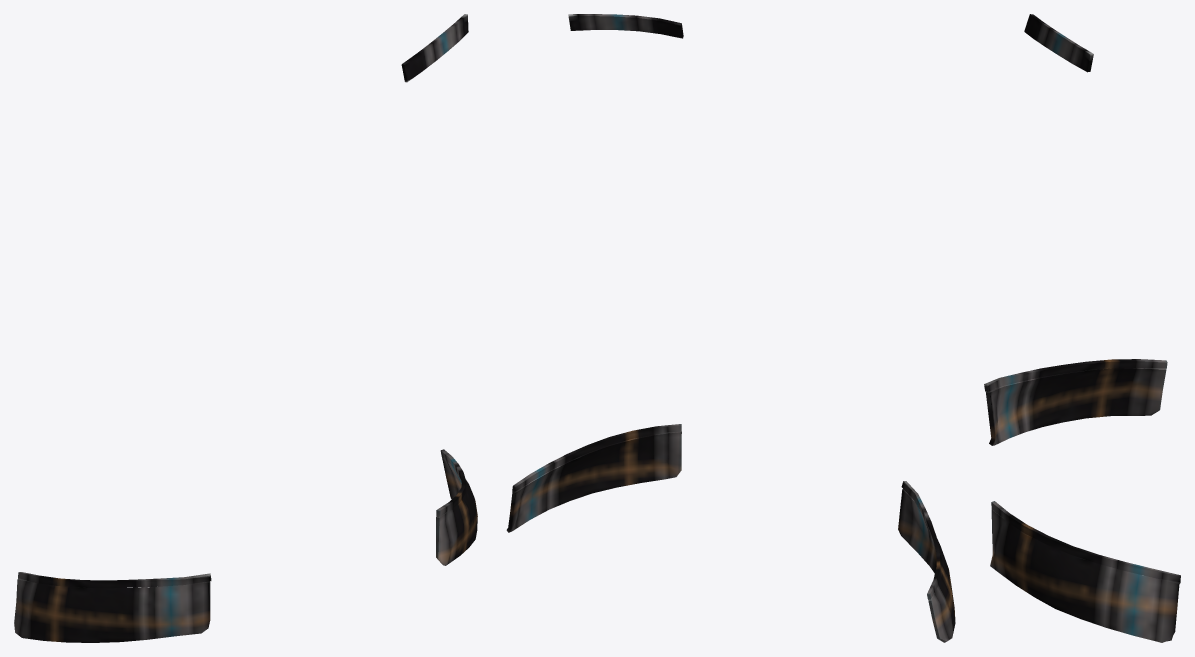
File: stdpocketsb.glb
The picture shows the model from 3 angles, left to right: view 1: azimuth 30°, elevation 25°; view 2: azimuth 150°, elevation 25°; view 3: azimuth 270°, elevation 25°; orthographic projection. The views are drawn at different scales.
Visible parts, largest first — view 1: pocket (×4); view 2: pocket (×5); view 3: pocket (×5).
Part boxes in pixels (bbox=[...]): pocket (×4): bbox=[14, 14, 477, 642]; pocket (×5): bbox=[506, 14, 955, 642]; pocket (×5): bbox=[984, 14, 1180, 642].
Bounding box in the file's own units: 358 × 404 × 123.
5 materials, 5 textured.
